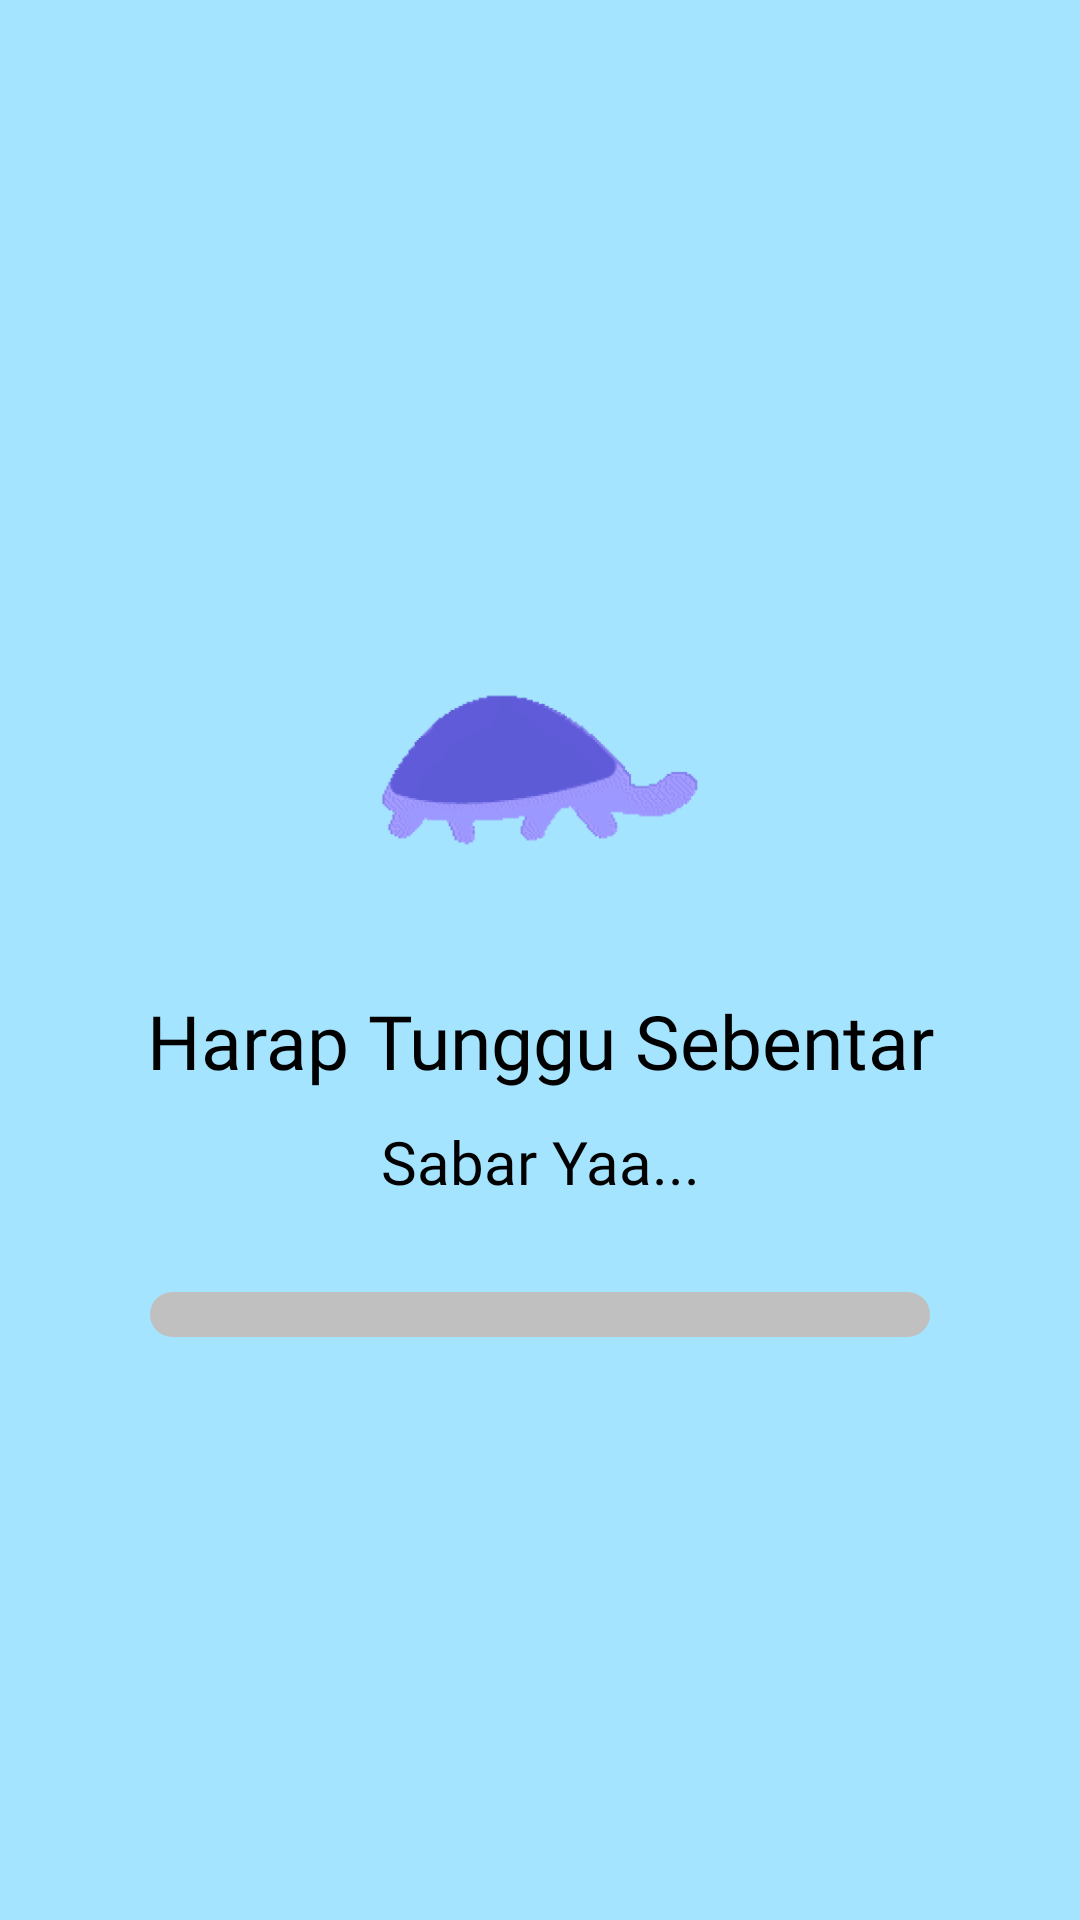

Icon bounding boxes for this 1080 x 1920 phone screenshot, format (x1, y1, x2, y2):
turtle: (382, 695, 698, 845)
